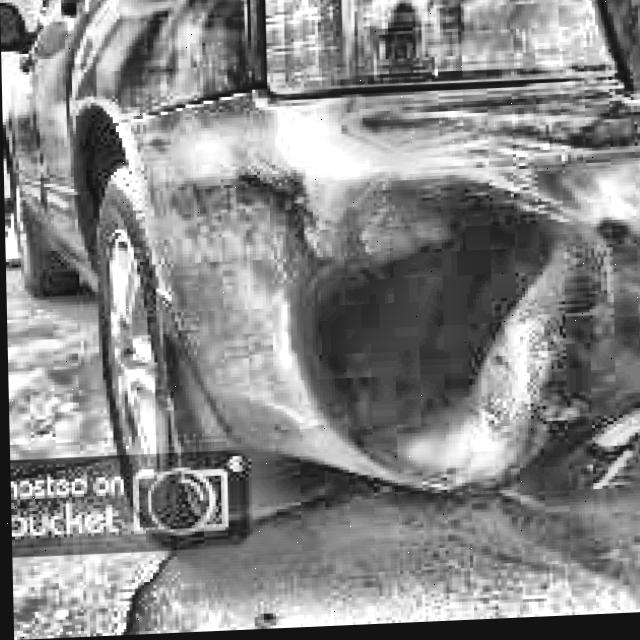bumper_dent: (298, 189, 589, 493)
